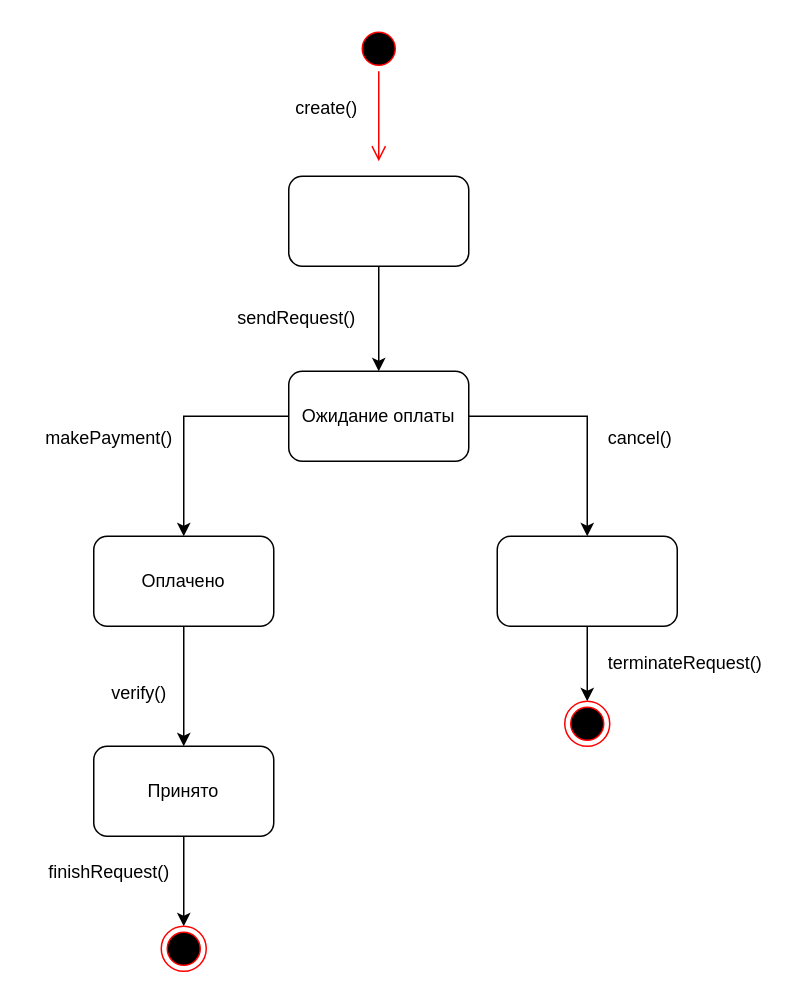
Some shapes in this 807 by 998 pixel diagram are drawn without their labels. The shapes that lost their labels are listed below. From the top down, each one's centre as x and y in pixels, then its label:
[378,220]: Создано
[586,580]: Отменено
